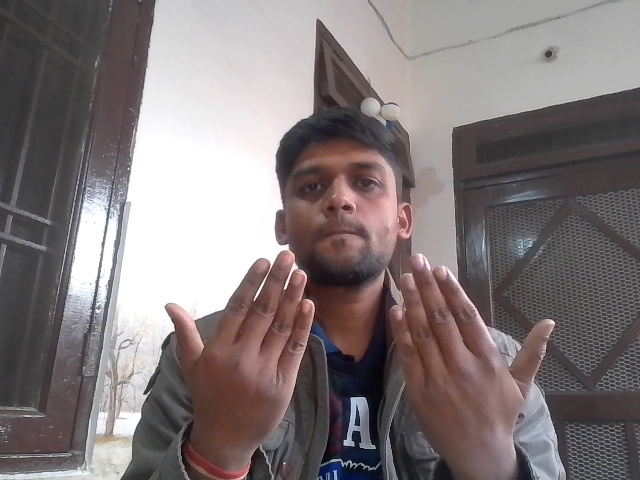ThankYou: (164, 241, 574, 471)
